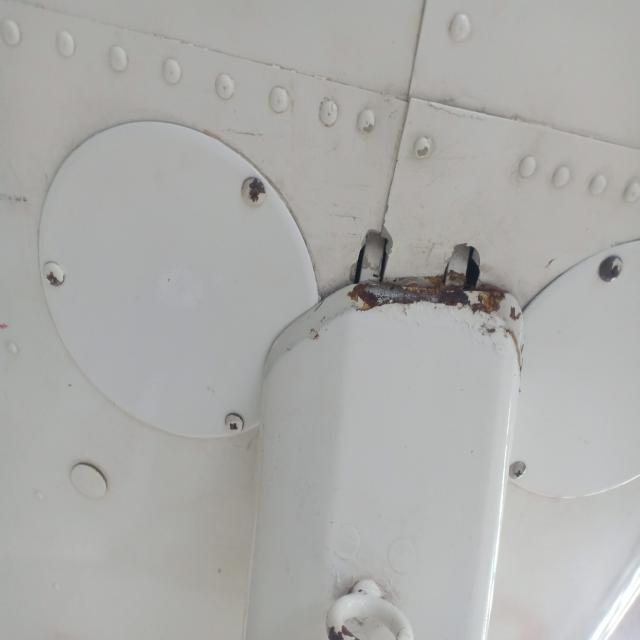Rupture: (308, 208, 533, 410), (234, 152, 279, 217), (585, 242, 623, 315), (42, 248, 66, 301)
